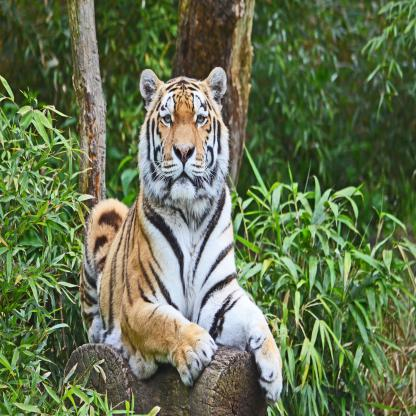Panthera tigris: (79, 66, 284, 406)
